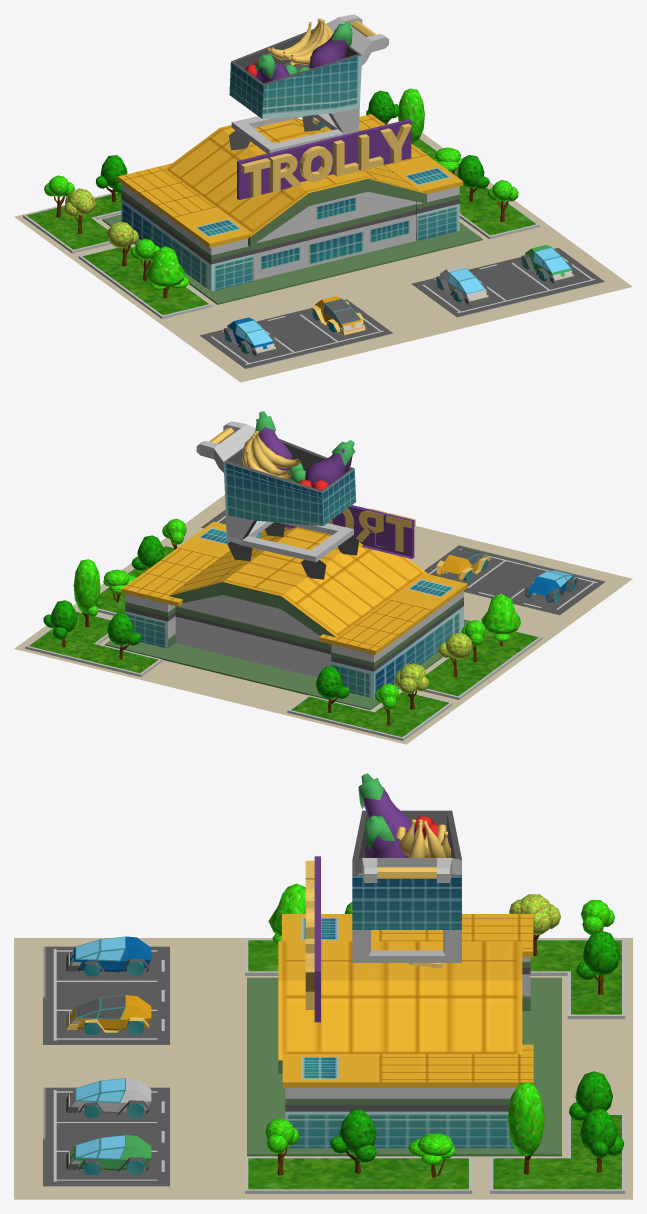
The model's file is grocery_LV1.fbx.
3 views of the same model, one above another, from view 1: azimuth 30°, elevation 25°; view 2: azimuth 150°, elevation 25°; view 3: azimuth 270°, elevation 25° (orthographic). The views are drawn at different scales.
Visible parts, largest first — view 1: GROCERY LEVEL 1; view 2: GROCERY LEVEL 1; view 3: GROCERY LEVEL 1.
Part boxes in pixels (x1,y1,x2,y2): GROCERY LEVEL 1: (14, 14, 632, 382); GROCERY LEVEL 1: (14, 411, 632, 744); GROCERY LEVEL 1: (14, 773, 632, 1199).
Bounding box in the file's own units: 140 × 71.57 × 140.
